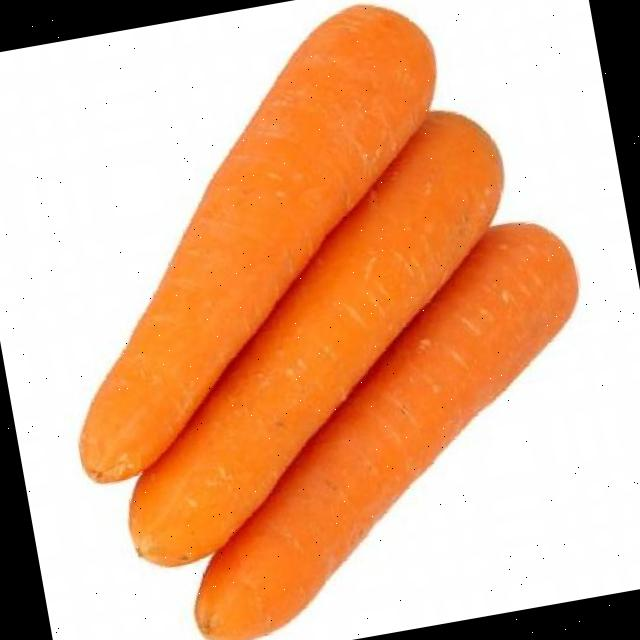carrot: (129, 112, 501, 565), (80, 7, 434, 482), (195, 224, 577, 640)
